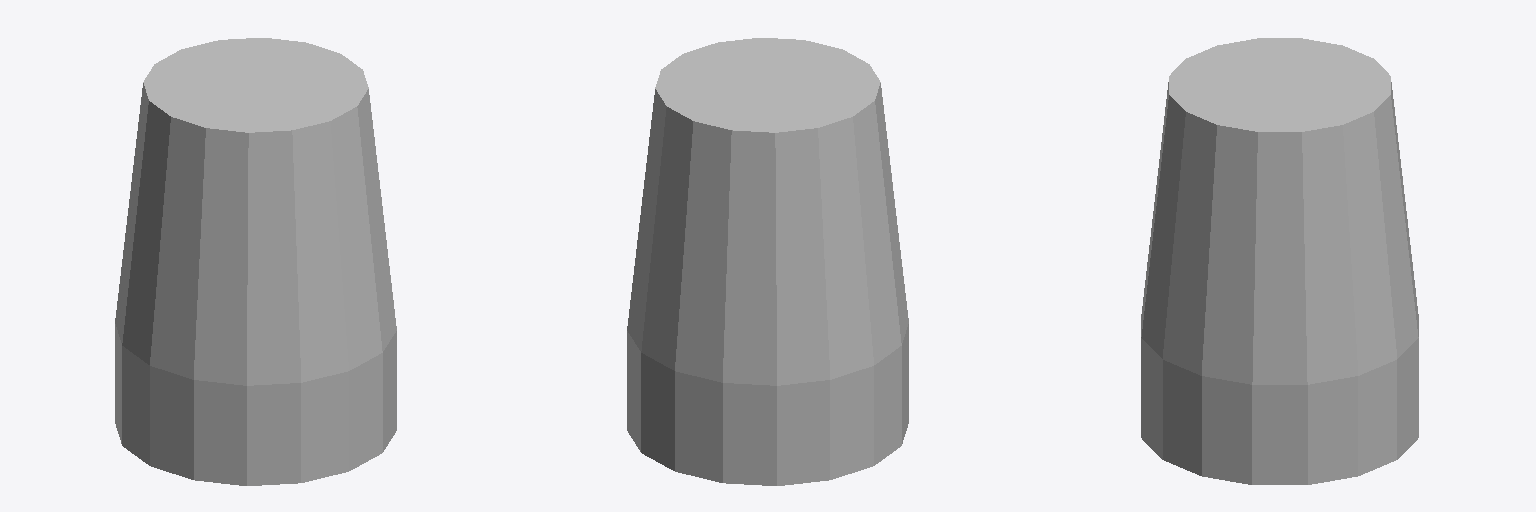
Rendered from libra_lv_fuel_tank_s7p5_s6_1_collider.obj.
3 views of the same model, side by side, from view 1: azimuth 30°, elevation 25°; view 2: azimuth 150°, elevation 25°; view 3: azimuth 270°, elevation 25° (orthographic).
Parts seen in each view (by area): view 1: collider; view 2: collider; view 3: collider.
Boxes of the visible parts, x1=… form: collider: x1=115, y1=38, x2=396, y2=485; collider: x1=627, y1=38, x2=908, y2=485; collider: x1=1141, y1=38, x2=1418, y2=484.
Bounding box in the file's own units: 9.38 × 12.75 × 9.38.